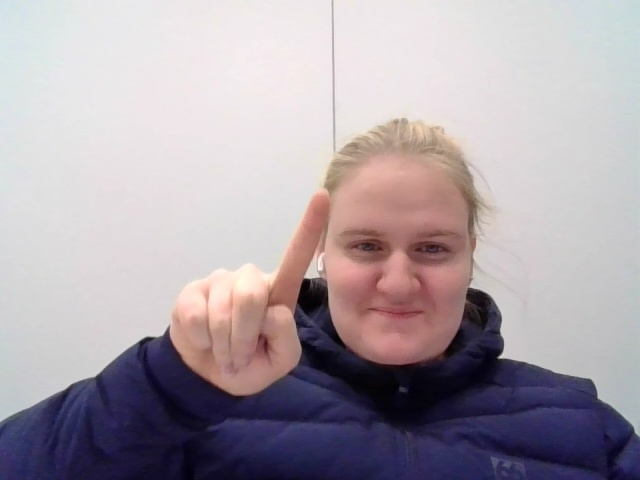up: (149, 174, 336, 398)
